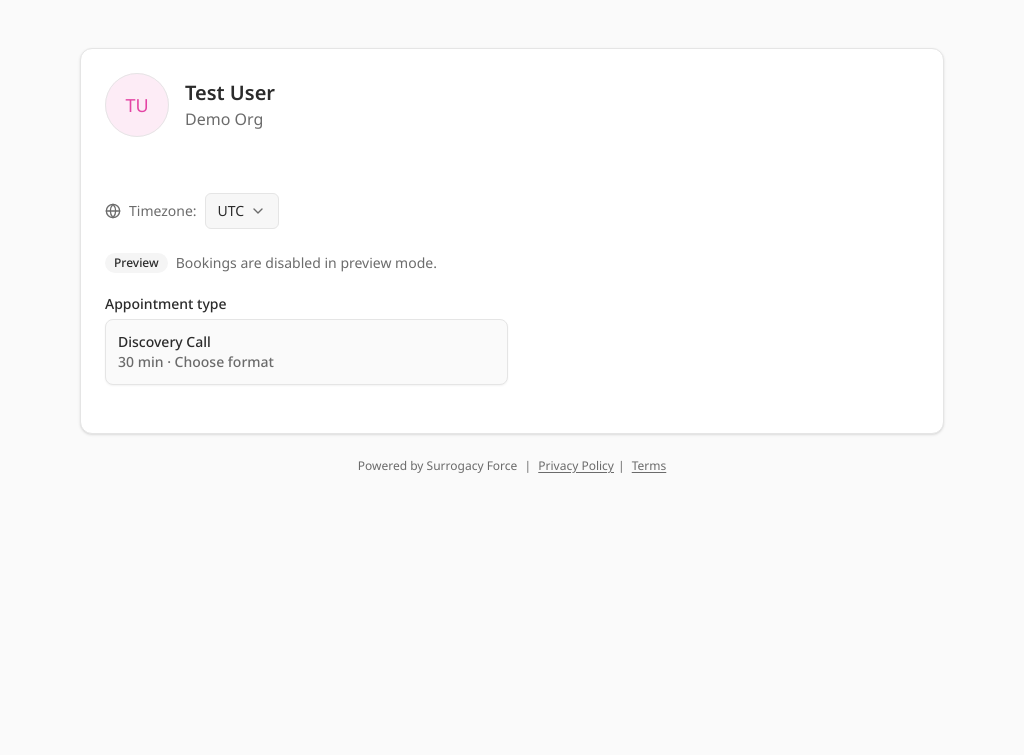
Test: Appointments Google Meet UI › requires a meeting format selection when multiple modes are available
Click the button "Discovery Call 30 min · Choose format".
click(164, 342)  # box x1=105 y1=319 x2=508 y2=385
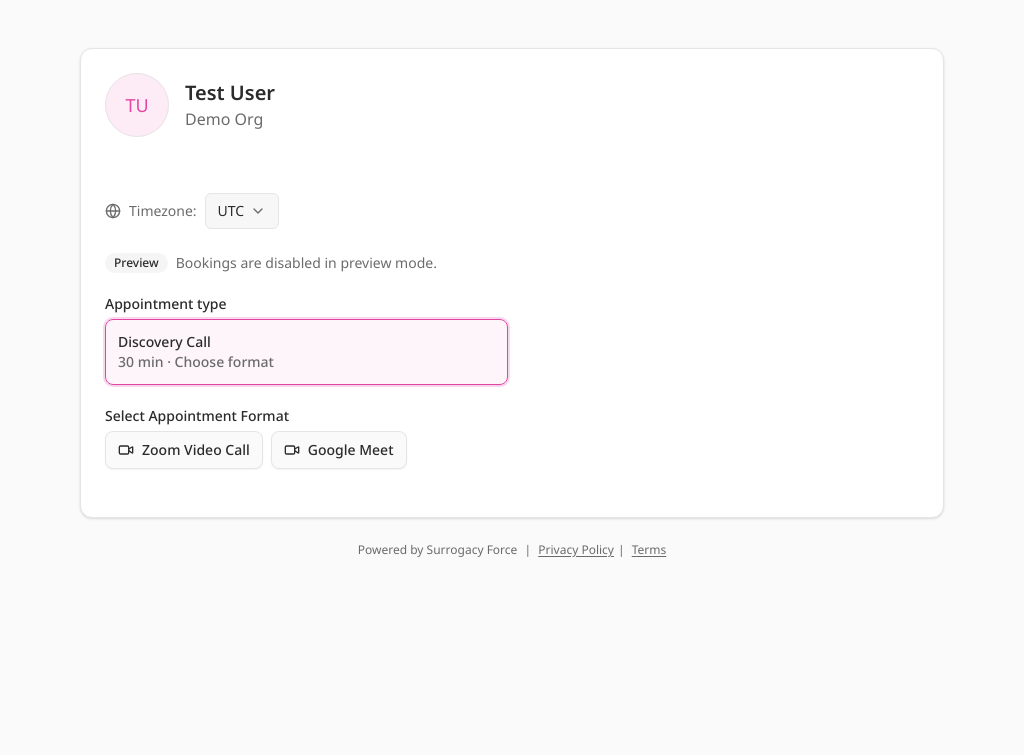
Expected: the text "Select a Date" is not shown
Expected: the text "Select Appointment Format" is shown, x1=105 y1=406 x2=289 y2=425
Click the button "Google Meet".
click(339, 450)  # box x1=271 y1=431 x2=406 y2=469
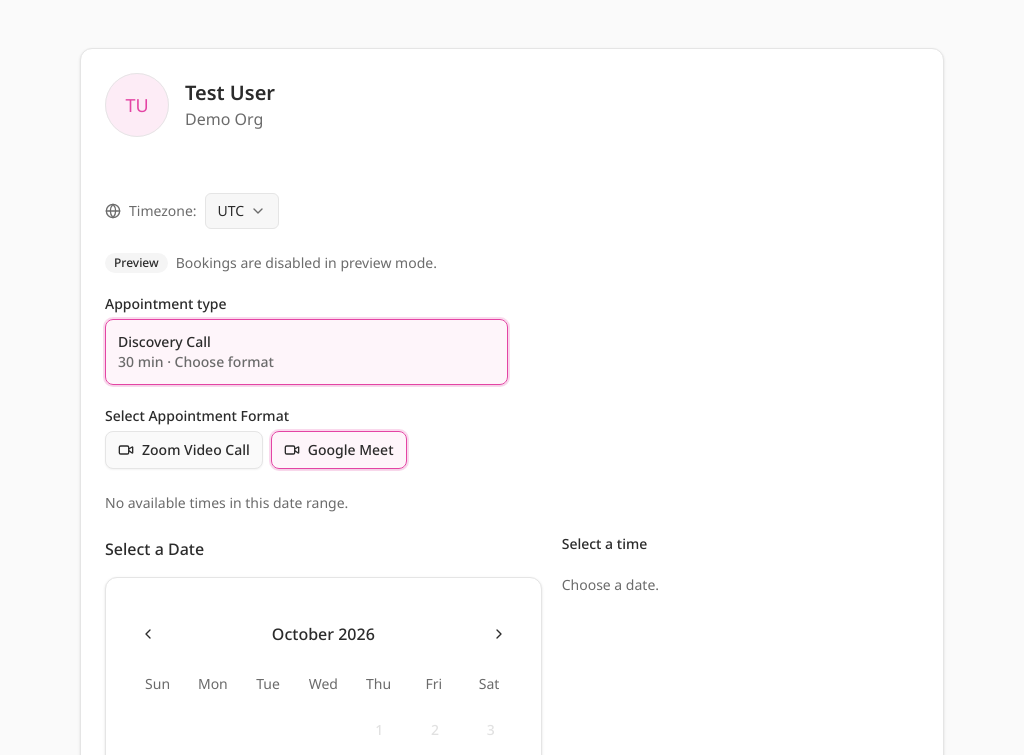
Expected: the text "Select a Date" is shown, x1=105 y1=538 x2=204 y2=560
